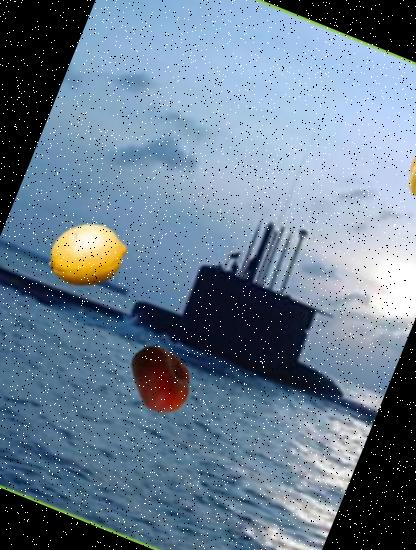Lemon: (36, 204, 138, 307)
Nectarine: (114, 333, 206, 425)
Physalis: (390, 137, 416, 206)
